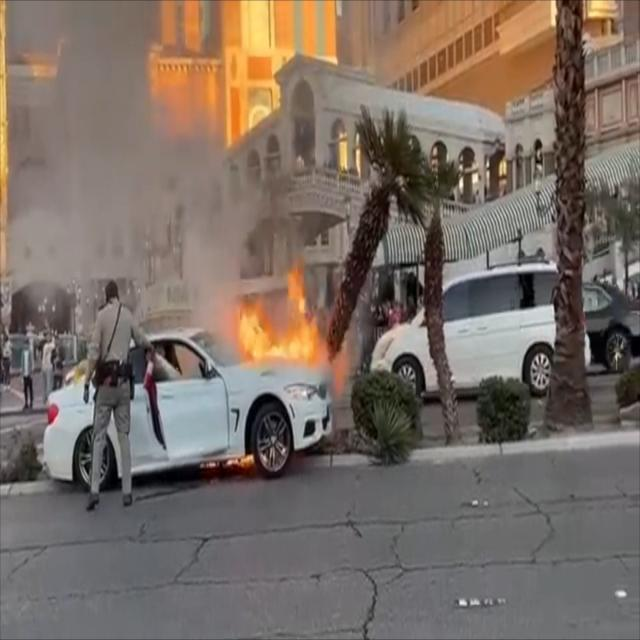fire: (231, 266, 338, 378)
